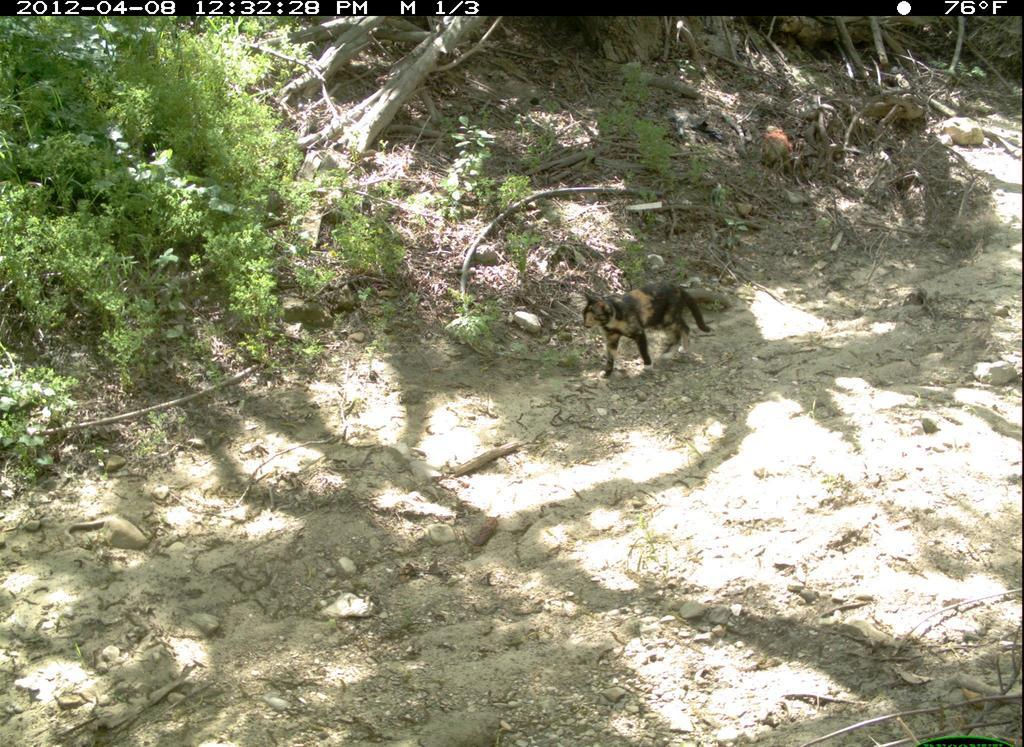cat: (574, 272, 725, 379)
